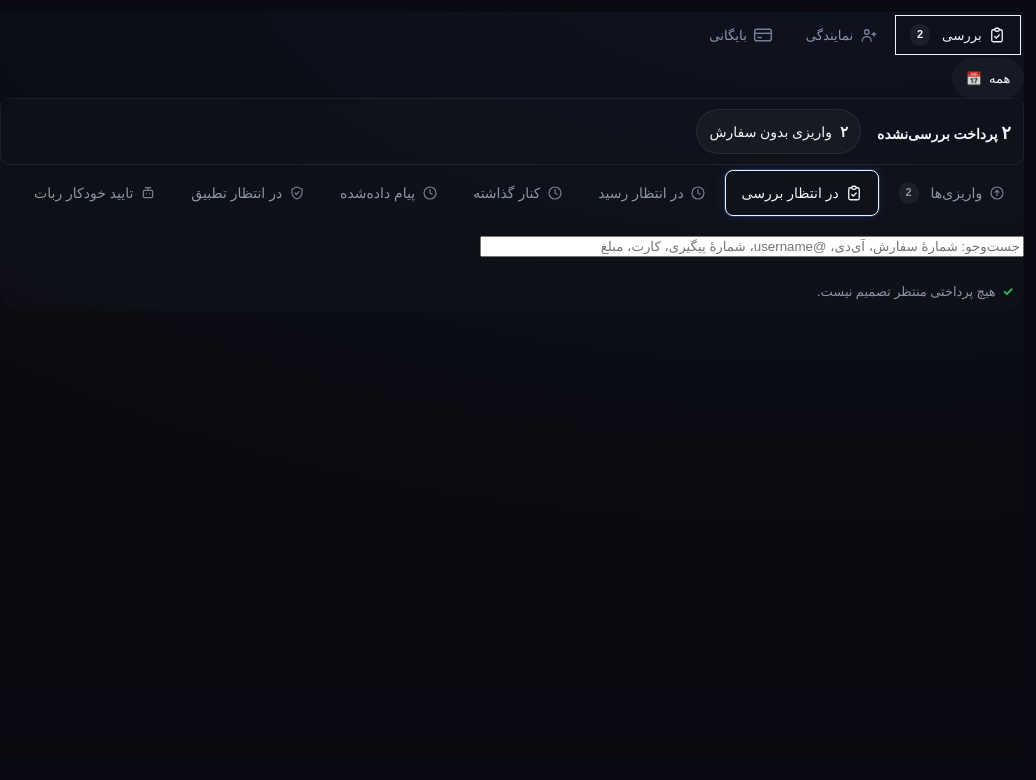
Test: PaymentsView income selection › supports header checkbox select-all without decline all
This screenshot has width=1036, height=780.
Click the tab "واریزی‌ها 2": {"x": 952, "y": 193} [882,170,1021,216]
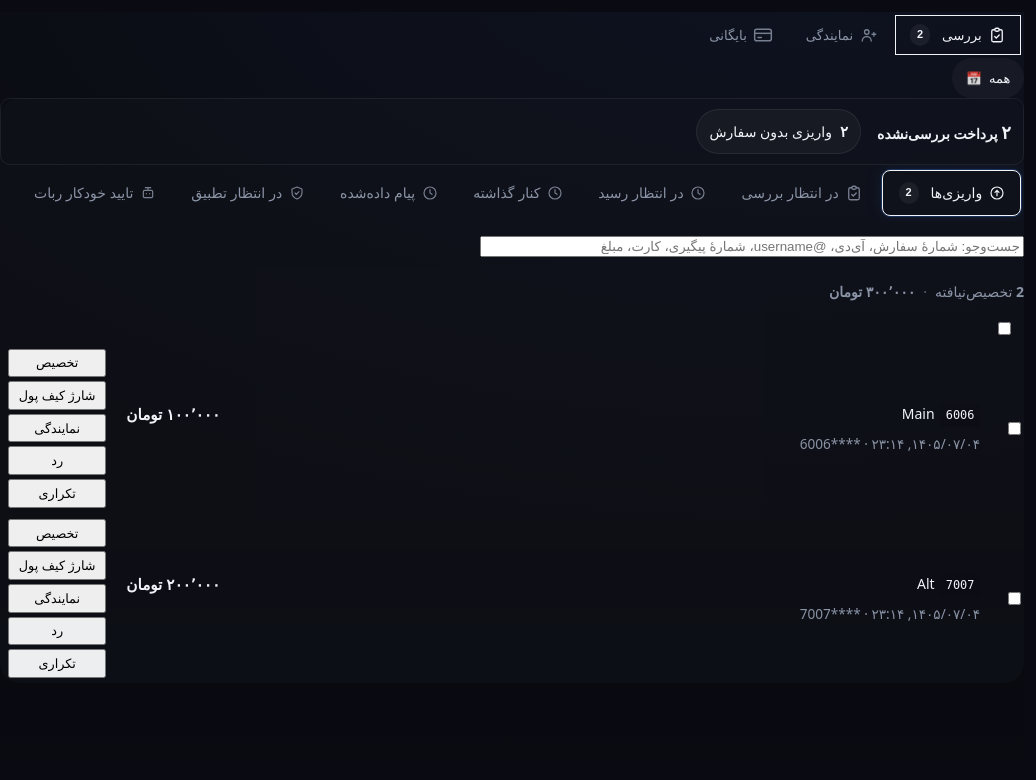
Expected: the checkbox named "انتخاب همهٔ ردیف‌ها" is shown
Click the checkbox named "انتخاب همهٔ ردیف‌ها": {"x": 1004, "y": 328} [998,322,1011,334]
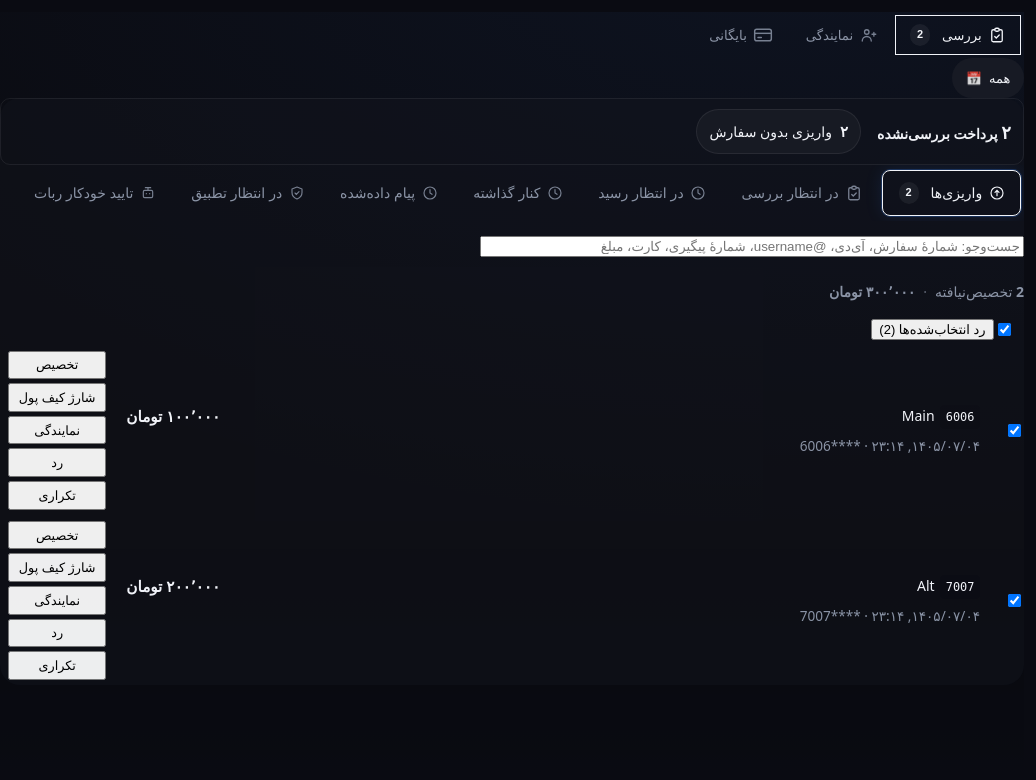
Expected: the button "رد انتخاب‌شده‌ها (2)" is shown, [871,318,994,340]
Click the checkbox named "انتخاب همهٔ ردیف‌ها": {"x": 1004, "y": 329} [998,322,1011,336]
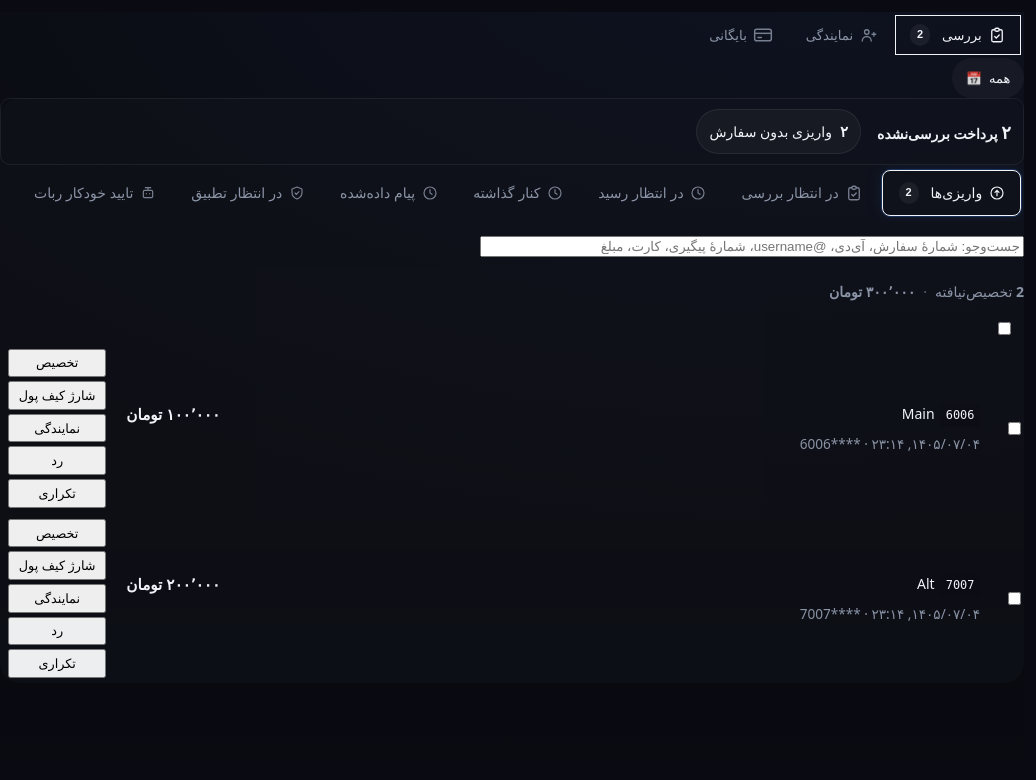
Expected: the button "رد انتخاب‌شده‌ها" is gone
